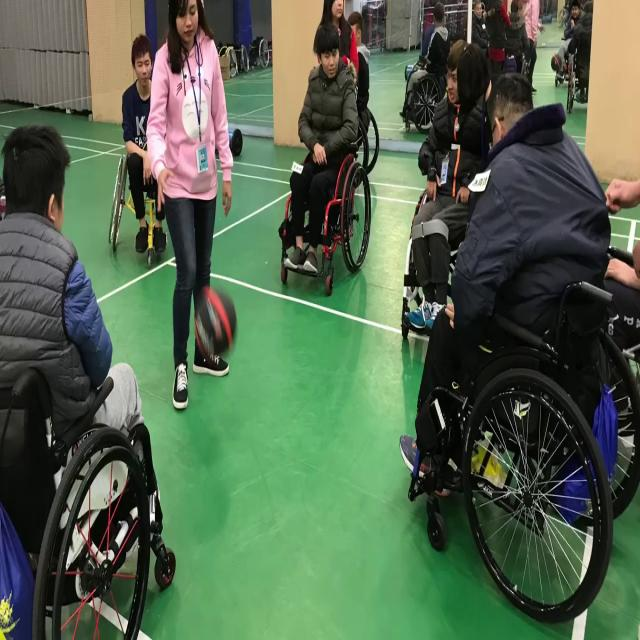wheelchairs: (394, 190, 640, 623), (0, 328, 181, 640), (270, 113, 386, 315), (99, 97, 207, 297), (403, 131, 495, 327), (394, 28, 466, 146)
